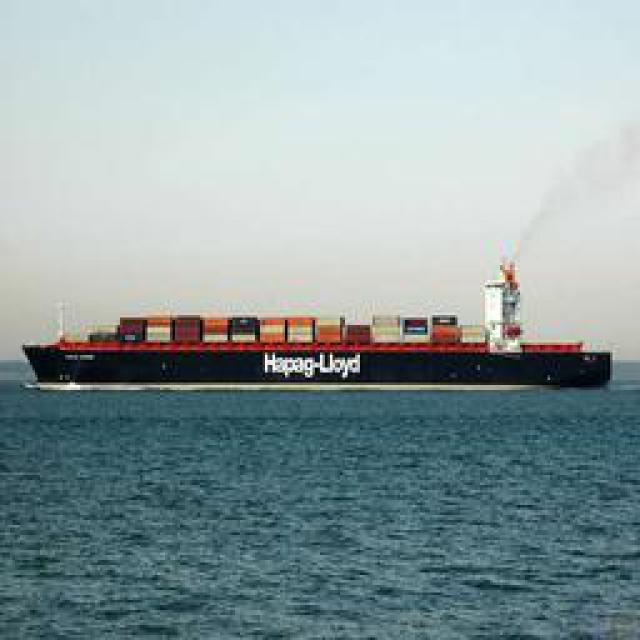Ship: (18, 297, 616, 387)
